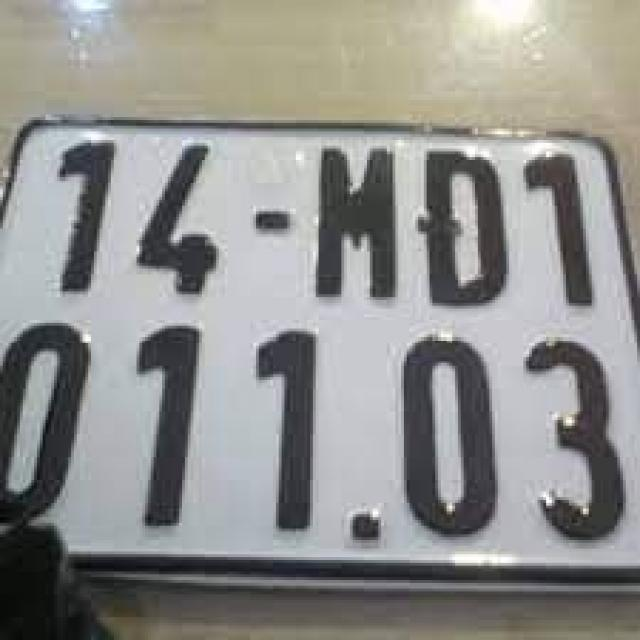0: (392, 326, 507, 540), (0, 314, 100, 520)
1: (242, 320, 336, 534), (125, 317, 211, 534), (518, 142, 618, 312), (42, 132, 120, 298)
3: (518, 331, 632, 543)
4: (131, 134, 227, 300)
D: (415, 138, 509, 313)
M: (312, 137, 406, 309)
